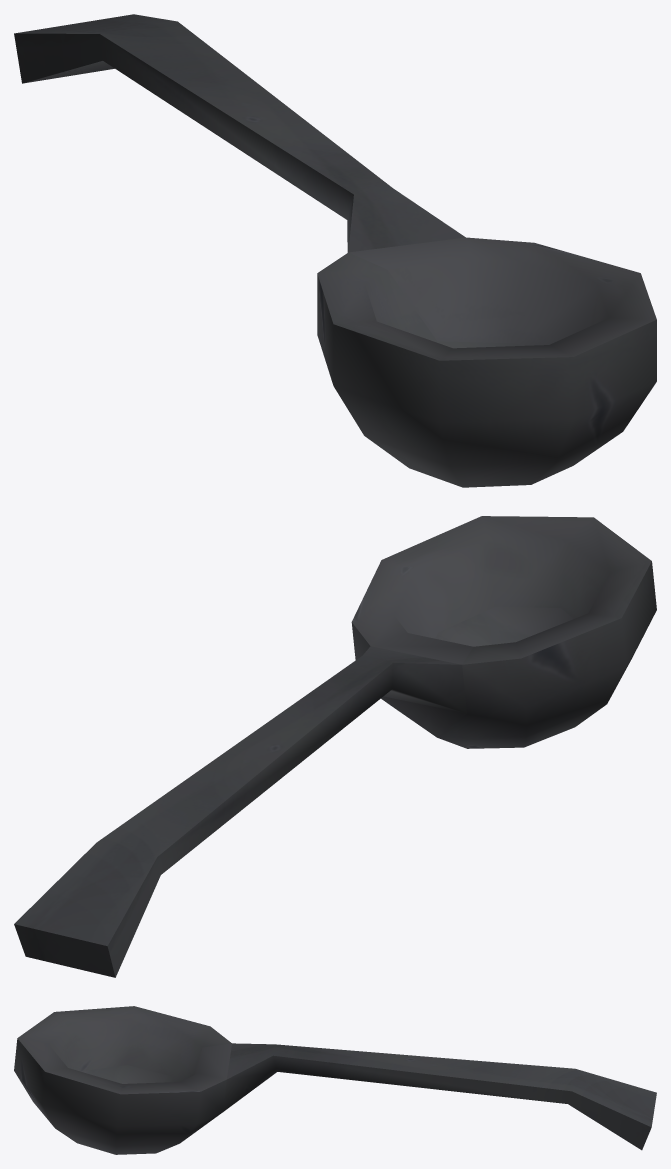
Rendered from SM_PROP_spoon_01.fbx.
The picture shows the model from 3 angles, top to bottom: view 1: azimuth 30°, elevation 25°; view 2: azimuth 150°, elevation 25°; view 3: azimuth 270°, elevation 25°; orthographic projection. The views are drawn at different scales.
Visible parts, largest first — view 1: SM_PROP_spoon_01; view 2: SM_PROP_spoon_01; view 3: SM_PROP_spoon_01.
Boxes of the visible parts, x1=… form: SM_PROP_spoon_01: x1=14, y1=14, x2=656, y2=487; SM_PROP_spoon_01: x1=14, y1=516, x2=656, y2=977; SM_PROP_spoon_01: x1=14, y1=1006, x2=656, y2=1154.
Bounding box in the file's own units: 7.9 × 4.53 × 26.13.
